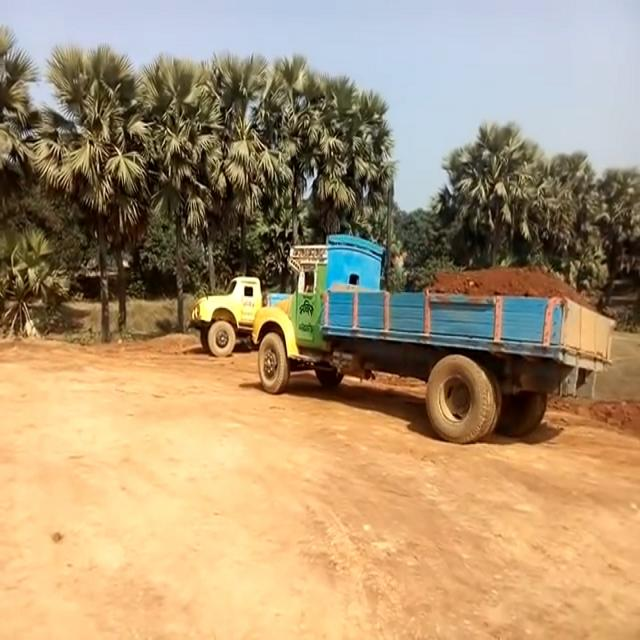truck: (270, 225, 616, 464), (187, 255, 275, 356)
